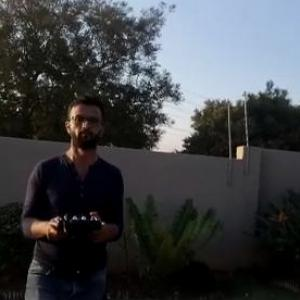follow: (14, 94, 127, 299)
